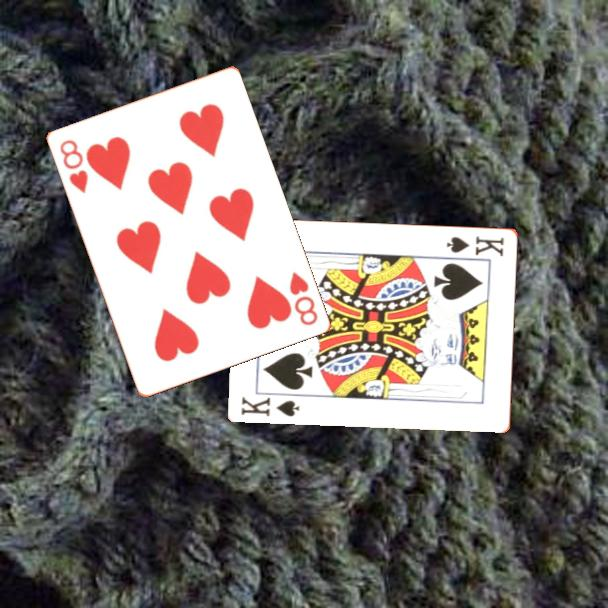h08: (56, 136, 91, 196), (285, 268, 320, 328)
s13: (443, 232, 507, 259), (238, 393, 303, 419)
